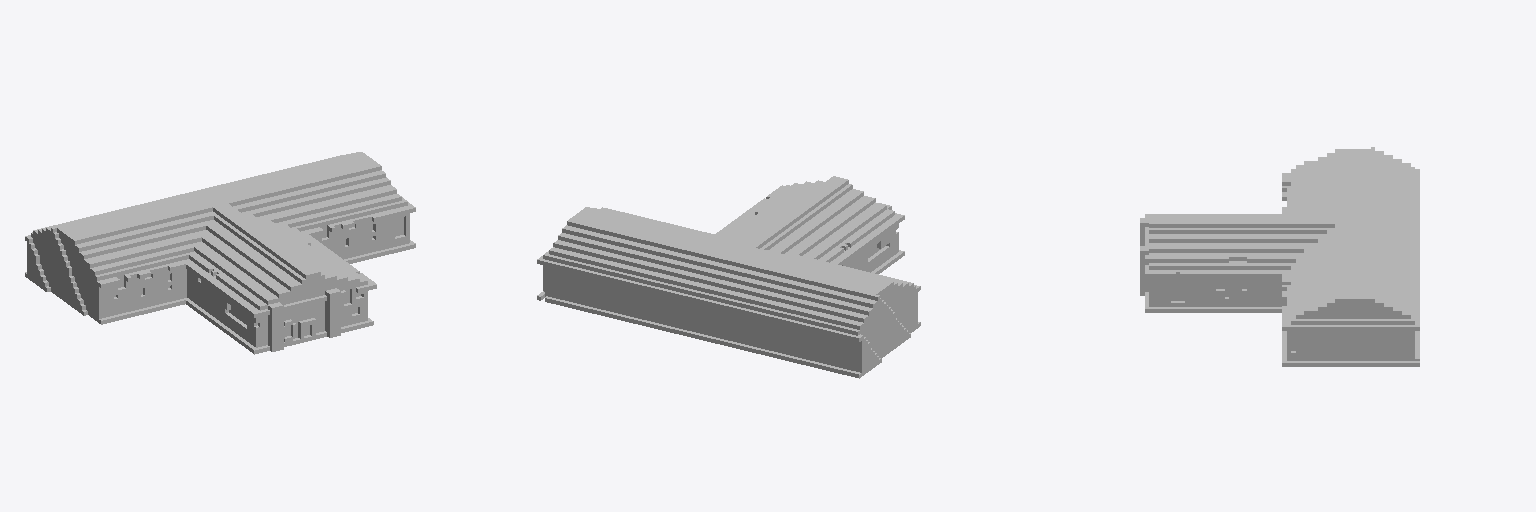
Rendered from church t2.obj.
The picture shows the model from 3 angles: view 1: azimuth 30°, elevation 25°; view 2: azimuth 150°, elevation 25°; view 3: azimuth 270°, elevation 25°; orthographic projection.
Parts seen in each view (by area): view 1: object 1; view 2: object 1; view 3: object 1.
Part boxes in pixels (x1,y1,x2,y2): object 1: (25, 152, 415, 354); object 1: (537, 176, 920, 378); object 1: (1140, 147, 1419, 366).
Bounding box in the file's own units: 8.4 × 1.6 × 6.3.